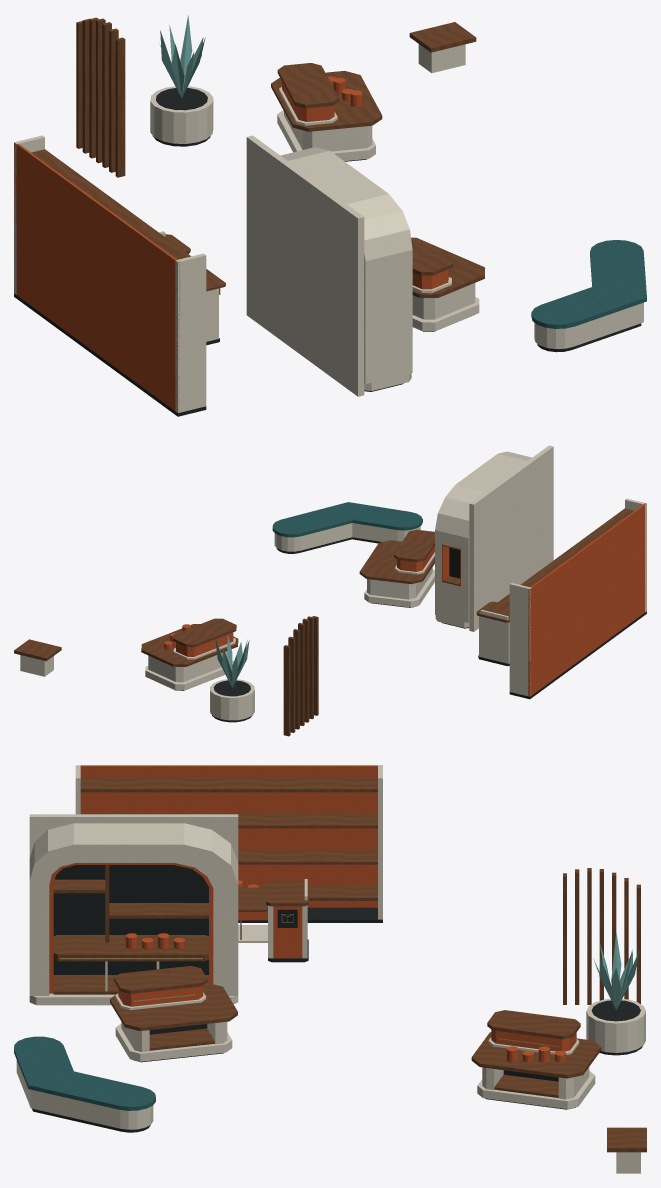
Rendered from SHOP_D09_S72_A158__fitout.glb.
3 views of the same model, one above another, from view 1: azimuth 30°, elevation 25°; view 2: azimuth 150°, elevation 25°; view 3: azimuth 270°, elevation 25° (orthographic). The views are drawn at different scales.
Parts seen in each view (by area): view 1: SHOP_D09_S72_A158__fitout__ivory_enamel, SHOP_D09_S72_A158__fitout__retail_terracotta_enamel, SHOP_D09_S72_A158__fitout__warm_walnut, SHOP_D09_S72_A158__fitout__teal_weave, SHOP_D09_S72_A158__fitout__dark_rubber, SHOP_D09_S72_A158__fitout__quiet_teal; view 2: SHOP_D09_S72_A158__fitout__ivory_enamel, SHOP_D09_S72_A158__fitout__retail_terracotta_enamel, SHOP_D09_S72_A158__fitout__warm_walnut, SHOP_D09_S72_A158__fitout__teal_weave, SHOP_D09_S72_A158__fitout__dark_rubber, SHOP_D09_S72_A158__fitout__quiet_teal; view 3: SHOP_D09_S72_A158__fitout__warm_walnut, SHOP_D09_S72_A158__fitout__ivory_enamel, SHOP_D09_S72_A158__fitout__retail_terracotta_enamel, SHOP_D09_S72_A158__fitout__dark_rubber, SHOP_D09_S72_A158__fitout__teal_weave, SHOP_D09_S72_A158__fitout__quiet_teal.
Boxes of the visible parts, x1,y1,x2,y2 form: SHOP_D09_S72_A158__fitout__ivory_enamel: (14,44,643,412); SHOP_D09_S72_A158__fitout__retail_terracotta_enamel: (14,76,448,412); SHOP_D09_S72_A158__fitout__warm_walnut: (31,17,484,297); SHOP_D09_S72_A158__fitout__teal_weave: (531,240,646,328); SHOP_D09_S72_A158__fitout__dark_rubber: (14,88,641,416); SHOP_D09_S72_A158__fitout__quiet_teal: (159,15,205,98); SHOP_D09_S72_A158__fitout__ivory_enamel: (20,445,646,720); SHOP_D09_S72_A158__fitout__retail_terracotta_enamel: (164,503,646,696); SHOP_D09_S72_A158__fitout__warm_walnut: (14,508,634,736); SHOP_D09_S72_A158__fitout__teal_weave: (272,502,422,537); SHOP_D09_S72_A158__fitout__dark_rubber: (175,537,646,722); SHOP_D09_S72_A158__fitout__quiet_teal: (215,634,249,687); SHOP_D09_S72_A158__fitout__warm_walnut: (53,777,646,1152); SHOP_D09_S72_A158__fitout__ivory_enamel: (16,765,645,1173); SHOP_D09_S72_A158__fitout__retail_terracotta_enamel: (49,765,576,1062); SHOP_D09_S72_A158__fitout__dark_rubber: (32,865,642,1132); SHOP_D09_S72_A158__fitout__teal_weave: (14,1036,155,1110); SHOP_D09_S72_A158__fitout__quiet_teal: (593,932,639,1009).
Size of the model in its own units: 10.25 by 3 by 10.3.
7 materials, 6 textured.
